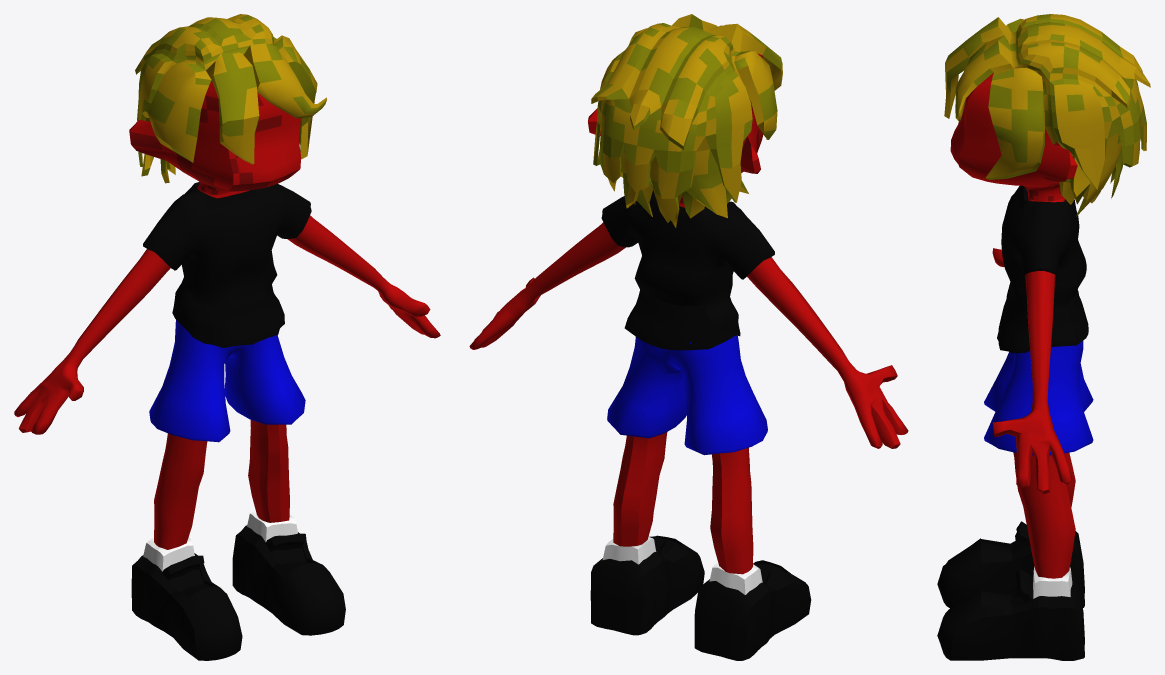
File: CI_NPC-AnimeHair_LowPoly_MOD_v2.fbx
3 renders of one model, left to right at view 1: azimuth 30°, elevation 25°; view 2: azimuth 150°, elevation 25°; view 3: azimuth 270°, elevation 25°, orthographic. The views are drawn at different scales.
Parts seen in each view (by area): view 1: NPC_LowPoly_Torso_v004, NPC_LowPoly_Head_v004, NPC_LowPoly_Legs_v004, NPC_LowPoly_ShoeR_v004 (×2); view 2: NPC_LowPoly_Head_v004, NPC_LowPoly_Torso_v004, NPC_LowPoly_Legs_v004, NPC_LowPoly_ShoeR_v004 (×2); view 3: NPC_LowPoly_Head_v004, NPC_LowPoly_Torso_v004, NPC_LowPoly_ShoeR_v004 (×2), NPC_LowPoly_Legs_v004.
Boxes of the visible parts, x1,y1,x2,y2 form: NPC_LowPoly_Torso_v004: (14,182,440,434); NPC_LowPoly_Head_v004: (129,14,326,194); NPC_LowPoly_Legs_v004: (149,320,305,549); NPC_LowPoly_ShoeR_v004 (×2): (131,510,345,660); NPC_LowPoly_Head_v004: (588,14,782,227); NPC_LowPoly_Torso_v004: (469,190,908,448); NPC_LowPoly_Legs_v004: (607,335,767,574); NPC_LowPoly_ShoeR_v004 (×2): (590,535,811,660); NPC_LowPoly_Head_v004: (944,14,1150,216); NPC_LowPoly_Torso_v004: (992,185,1088,494); NPC_LowPoly_ShoeR_v004 (×2): (937,521,1084,660); NPC_LowPoly_Legs_v004: (984,341,1093,578).
Bounding box in the file's own units: 47.3 × 64.09 × 20.57.
